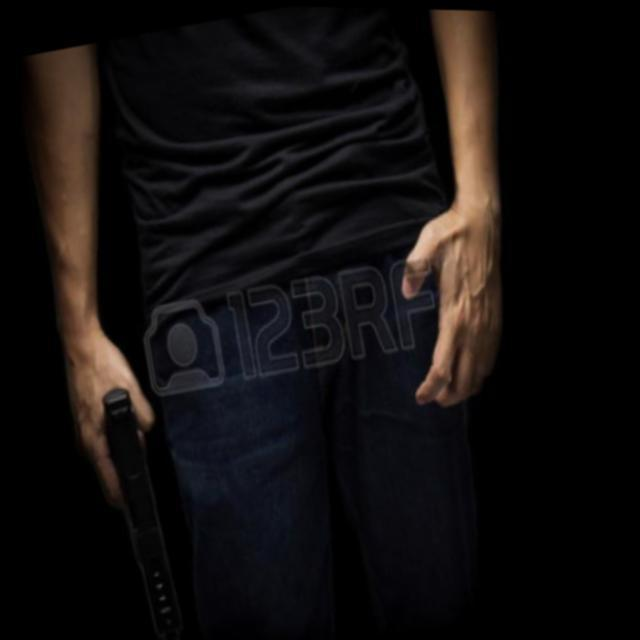weapon: (92, 378, 201, 640)
